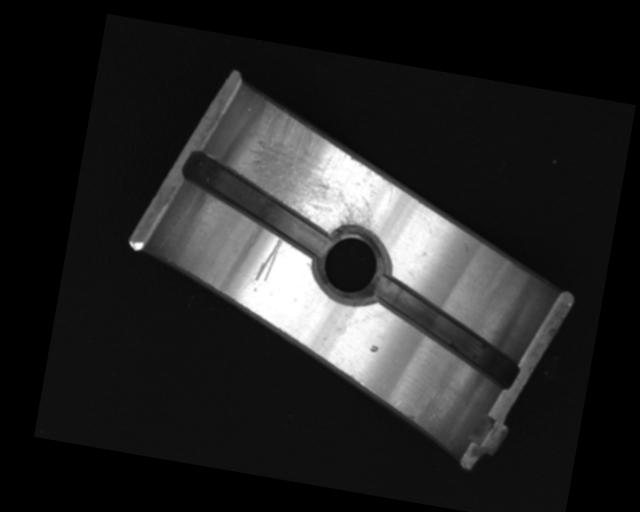bruise: (368, 342, 381, 353)
gap: (359, 273, 529, 388), (171, 149, 339, 259)
hole: (306, 221, 395, 307)
nick: (254, 234, 282, 285)
scratch: (240, 98, 398, 237)
